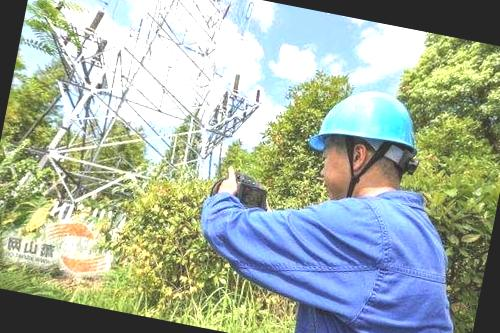helmet: (306, 78, 432, 174)
person: (175, 58, 500, 333)
